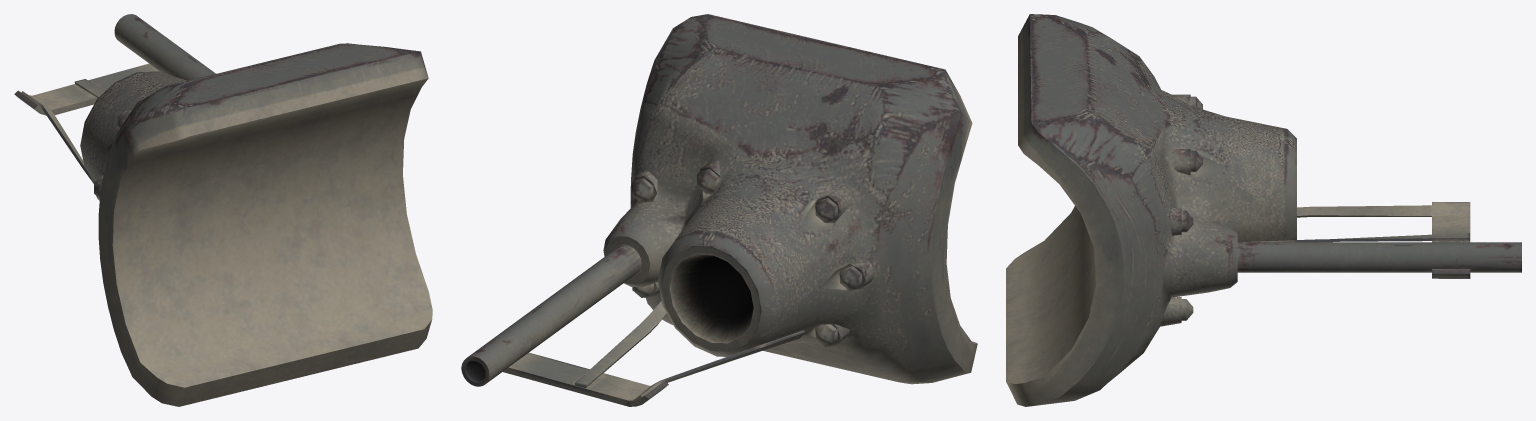
The model's file is gun_mantlet.obj.
3 views of the same model, side by side, from view 1: azimuth 30°, elevation 25°; view 2: azimuth 150°, elevation 25°; view 3: azimuth 270°, elevation 25° (orthographic). The views are drawn at different scales.
Parts seen in each view (by area): view 1: gun_mantlet; view 2: gun_mantlet; view 3: gun_mantlet.
Boxes of the visible parts, box(x1,y1,x2,y2) form: gun_mantlet: box(14, 14, 432, 406); gun_mantlet: box(461, 14, 977, 406); gun_mantlet: box(1006, 14, 1521, 406).
Size of the model in its own units: 1.19 by 1.14 by 1.88.
Materials: 1 (1 with a texture image).
